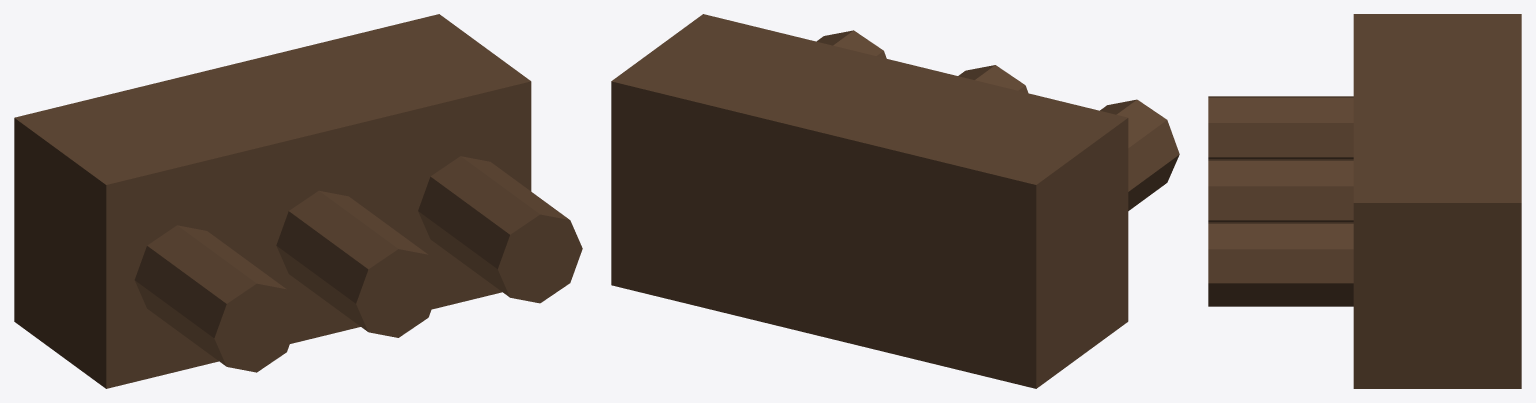
The model's file is SM_CommonFlowerPlanter.obj.
The picture shows the model from 3 angles, left to right: view 1: azimuth 30°, elevation 25°; view 2: azimuth 150°, elevation 25°; view 3: azimuth 270°, elevation 25°; orthographic projection. The views are drawn at different scales.
Parts seen in each view (by area): view 1: SM_CommonFlowerPlanter; view 2: SM_CommonFlowerPlanter; view 3: SM_CommonFlowerPlanter.
Part boxes in pixels (<box>): SM_CommonFlowerPlanter: <box>14,14,582,388</box>; SM_CommonFlowerPlanter: <box>611,14,1179,388</box>; SM_CommonFlowerPlanter: <box>1208,14,1521,388</box>.
Bounding box in the file's own units: 120 × 55 × 84.
